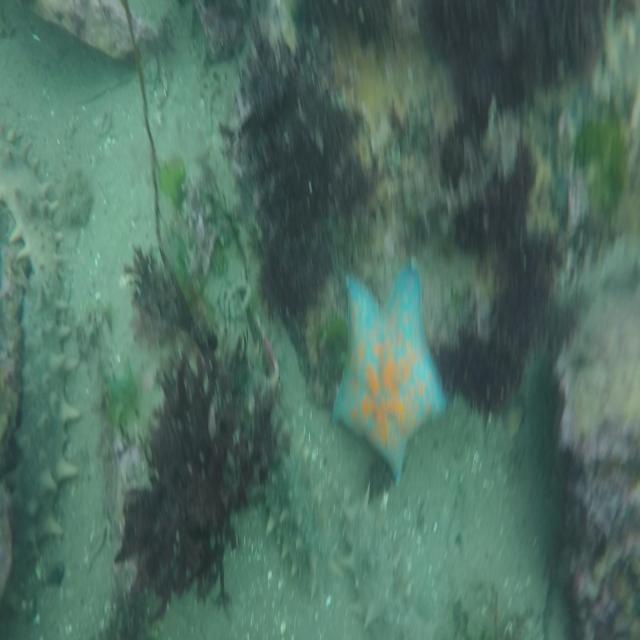holothurian: (212, 319, 320, 587), (4, 267, 79, 547), (0, 117, 62, 297), (340, 503, 413, 640)
starfish: (333, 271, 445, 488)
